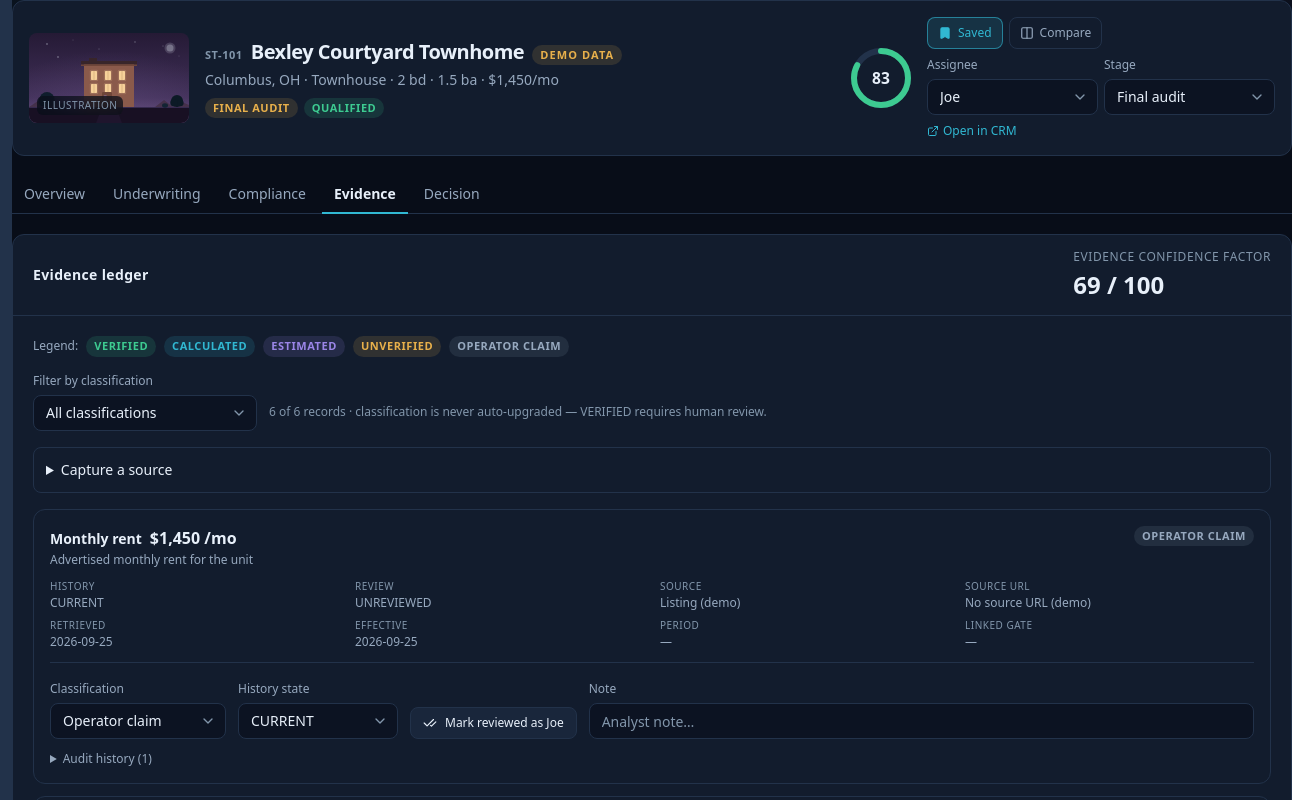
Scenario: Property Intelligence — evidence › mark reviewed assigns the acting partner, writes audit, keeps classification
Click the button "Mark reviewed as Joe" at (493, 723), box [410,707,577,739]
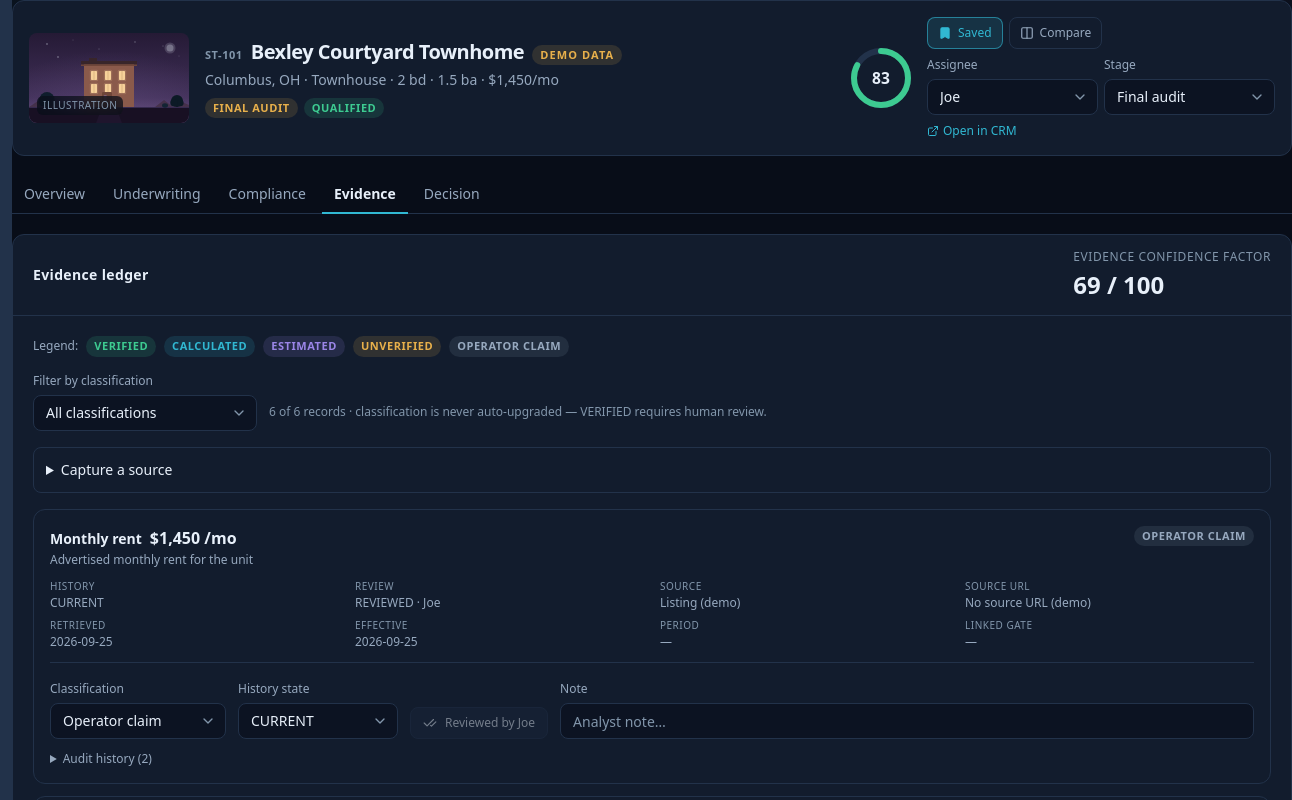
Expected: the dropdown labelled "Classification" shows "Operator claim", [50,703,226,739]
Expected: the button "Reviewed by Joe" is shown, [410,707,548,739]
